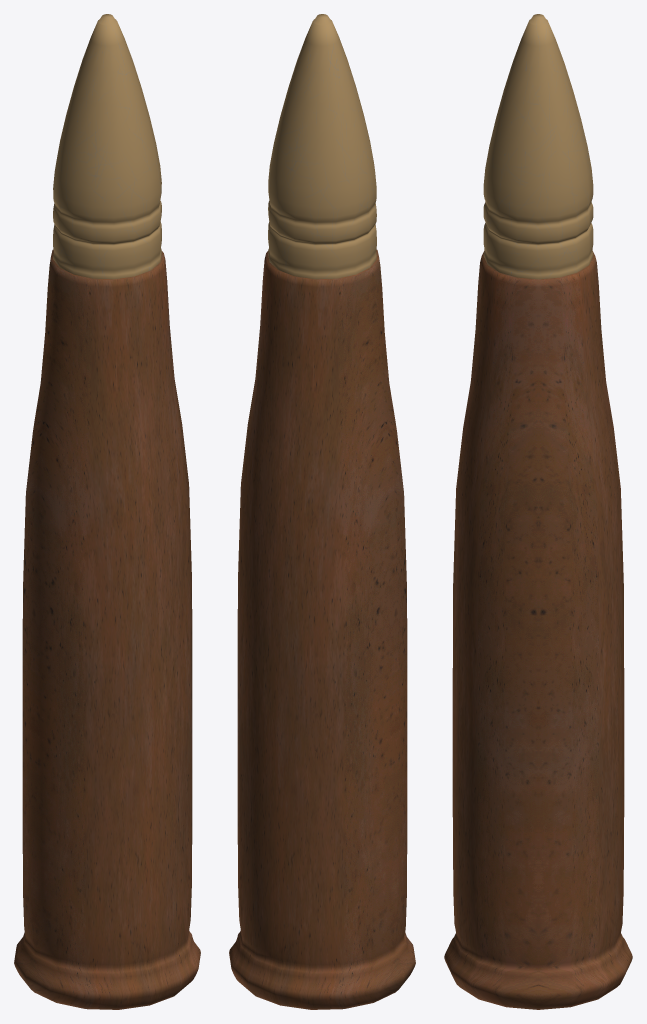
The model's file is Bullet.fbx.
The picture shows the model from 3 angles, left to right: view 1: azimuth 30°, elevation 25°; view 2: azimuth 150°, elevation 25°; view 3: azimuth 270°, elevation 25°; orthographic projection.
Visible parts, largest first — view 1: Casing, Bullet; view 2: Casing, Bullet; view 3: Casing, Bullet.
Part boxes in pixels (x1,y1,x2,y2): Casing: (14, 249, 200, 1009); Bullet: (53, 14, 161, 279); Casing: (229, 249, 415, 1009); Bullet: (268, 14, 376, 279); Casing: (444, 251, 632, 1009); Bullet: (483, 14, 593, 279).
Bounding box in the file's own units: 69.15 × 389 × 69.15.
